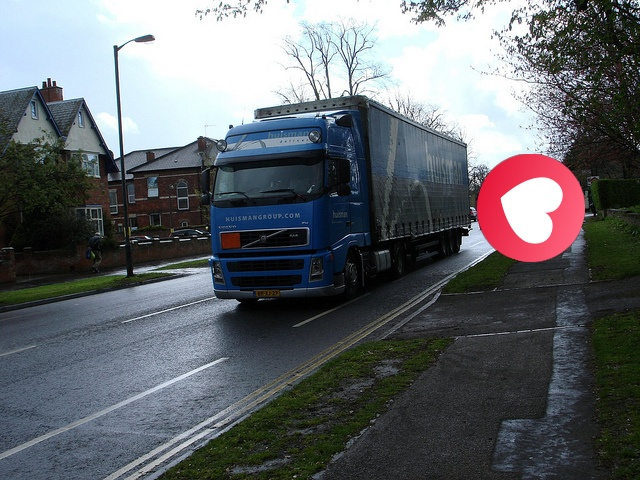love: (477, 154, 585, 262)
